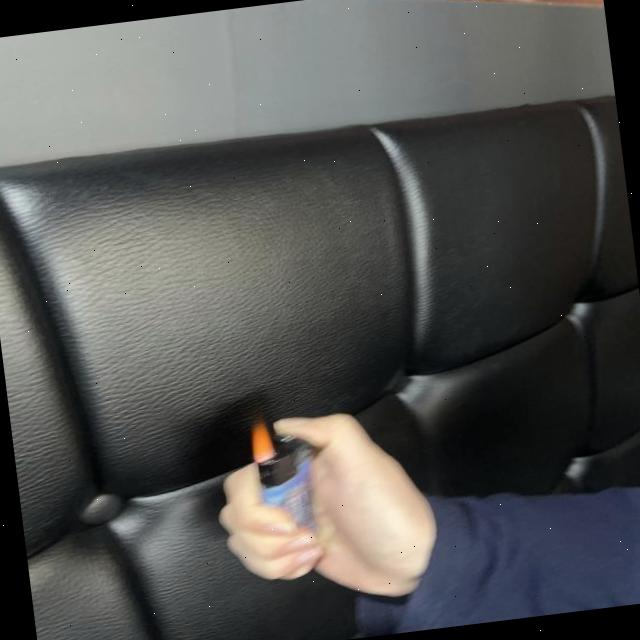fire: (248, 416, 276, 464)
